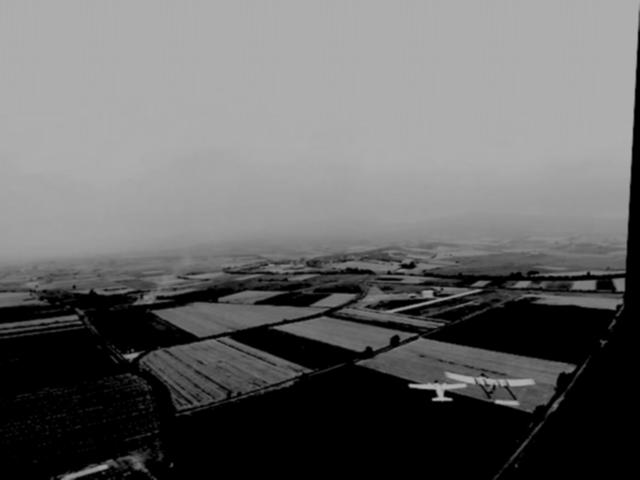hedef: (448, 366, 553, 427), (407, 349, 468, 410)
